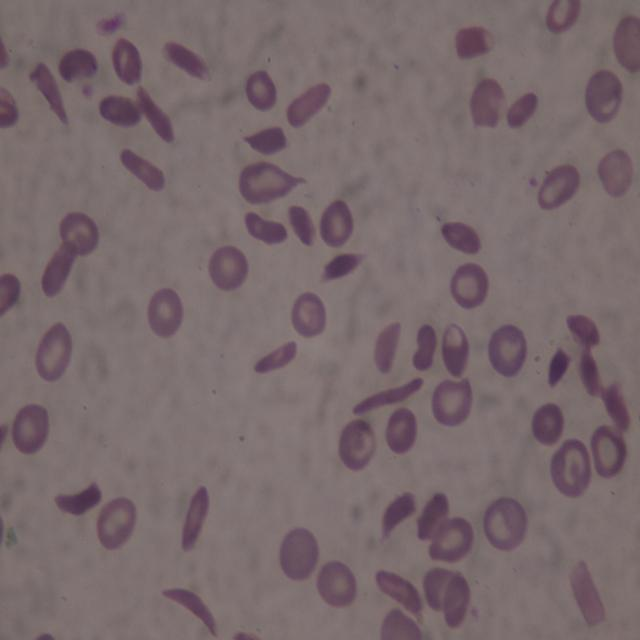Crystal: (374, 569, 424, 618), (120, 147, 168, 194), (41, 237, 78, 297), (284, 83, 330, 130), (598, 379, 632, 437), (54, 480, 104, 517), (180, 485, 208, 551), (164, 42, 212, 80), (244, 210, 287, 244), (441, 221, 482, 255)
Normal: (207, 246, 250, 293), (317, 558, 356, 609), (146, 286, 184, 338), (13, 402, 50, 455), (590, 424, 627, 476), (431, 379, 471, 426), (451, 262, 488, 310), (318, 199, 354, 248), (245, 70, 277, 110)
Others: (239, 160, 308, 201), (570, 564, 610, 631), (483, 495, 526, 552), (552, 438, 592, 498), (34, 323, 72, 383), (338, 418, 378, 472), (427, 516, 473, 562), (537, 163, 581, 211), (488, 323, 526, 378), (96, 496, 136, 548), (378, 492, 417, 545), (586, 68, 624, 122), (280, 527, 319, 578), (58, 210, 100, 256), (598, 148, 634, 201), (413, 490, 449, 541), (290, 290, 326, 338), (469, 80, 504, 128), (424, 567, 462, 610), (612, 15, 640, 73), (441, 322, 470, 378), (112, 37, 144, 87), (99, 91, 142, 128), (443, 574, 471, 628), (385, 407, 417, 452), (59, 47, 100, 82), (454, 26, 496, 60), (530, 401, 564, 443), (381, 606, 424, 639), (566, 311, 605, 347), (285, 202, 315, 248), (544, 0, 583, 32), (411, 324, 436, 372), (93, 6, 129, 38), (507, 91, 537, 128), (545, 346, 572, 387), (0, 272, 19, 316), (0, 86, 19, 128), (0, 37, 11, 73), (0, 421, 10, 448)
Sickle: (160, 586, 219, 639), (350, 375, 425, 416), (28, 62, 70, 125), (135, 85, 174, 144), (253, 334, 299, 374), (576, 342, 609, 396), (372, 319, 402, 376), (316, 250, 366, 281), (240, 128, 292, 152)
